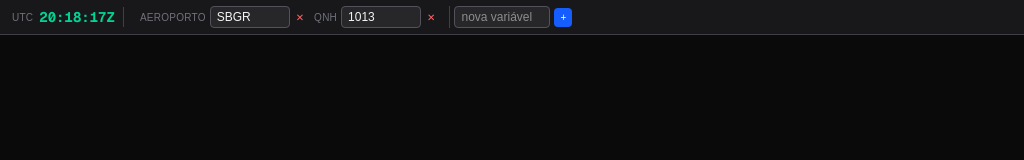
Scenario: GlobalVariablesBar › adds a new variable via Enter key
Type "vento" into the field named "New variable name" at (502, 17), box [454,6,550,28]
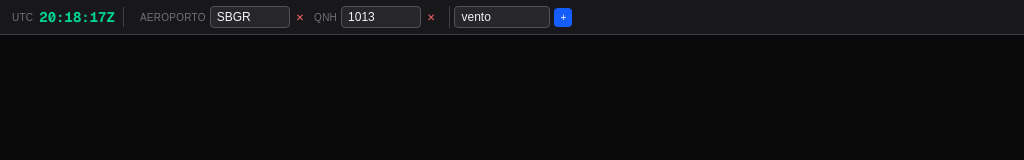
Press Enter in the field named "New variable name", box [454,6,550,28]
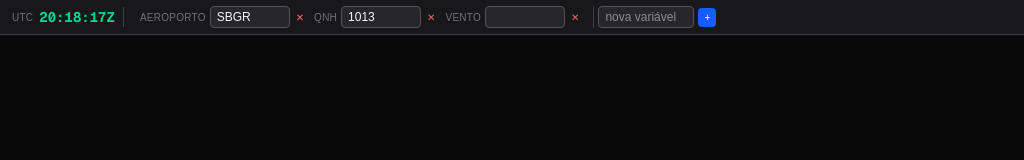
Result: the field named "vento value" is shown at [485,6,565,28]
